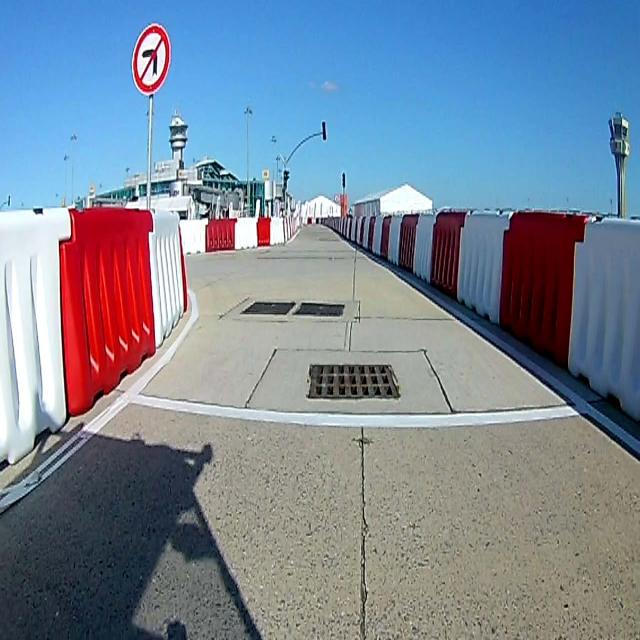soladonulmez: (132, 25, 172, 94)
